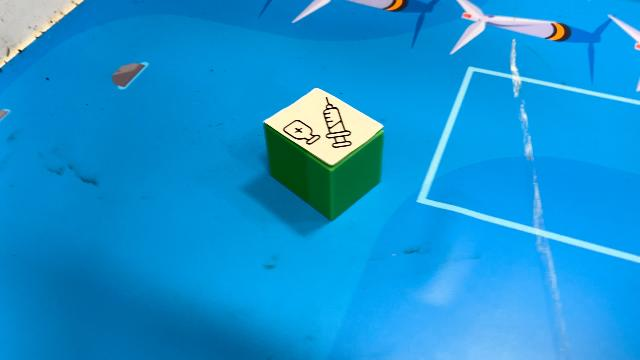syringe: (262, 86, 386, 222)
